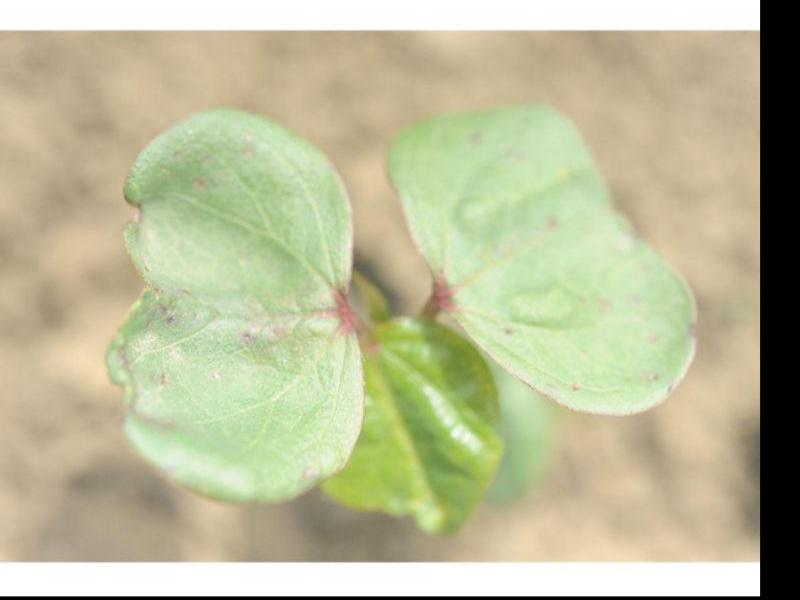cotton: (106, 101, 696, 536)
